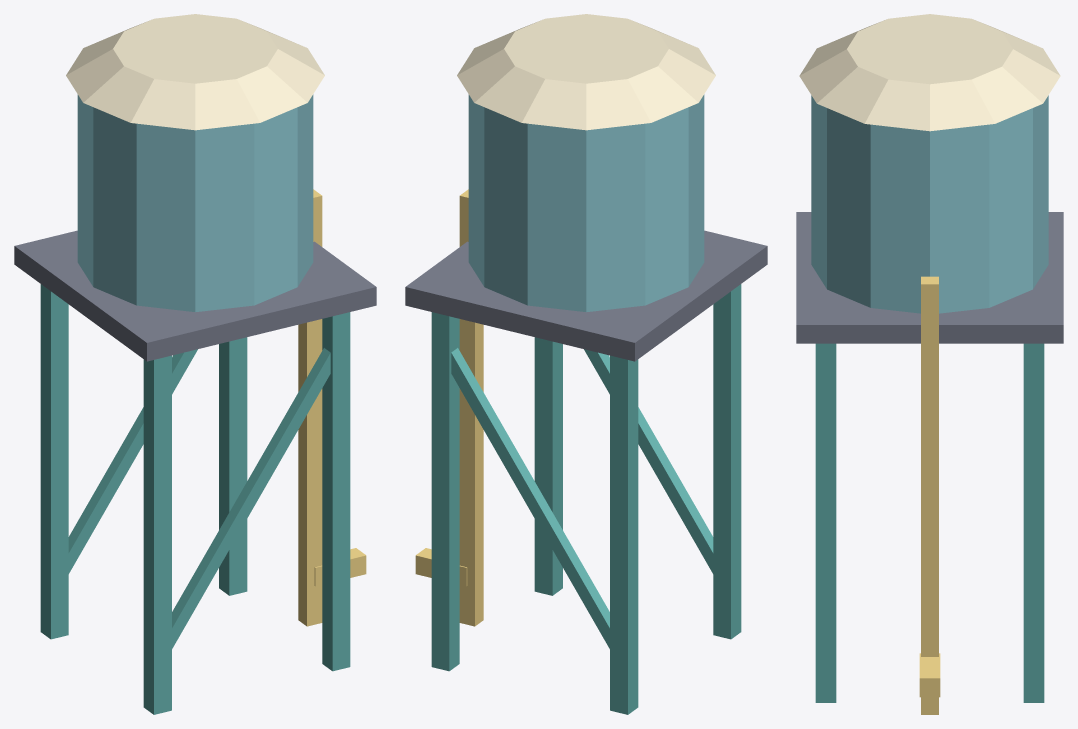
File: 02_WaterTower.glb
3 renders of one model, left to right at view 1: azimuth 30°, elevation 25°; view 2: azimuth 150°, elevation 25°; view 3: azimuth 270°, elevation 25°, orthographic.
Parts seen in each view (by area): view 1: 02_WaterTower; view 2: 02_WaterTower; view 3: 02_WaterTower.
Part boxes in pixels (x1,y1,x2,y2): 02_WaterTower: (14,14,376,714); 02_WaterTower: (405,14,767,714); 02_WaterTower: (796,14,1063,714).
Bounding box in the file's own units: 11 × 22.5 × 9.
